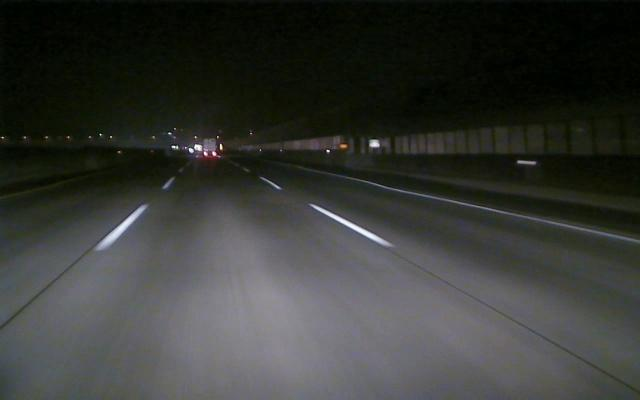lane: (344, 176, 637, 244), (264, 180, 393, 245), (89, 178, 175, 251)
